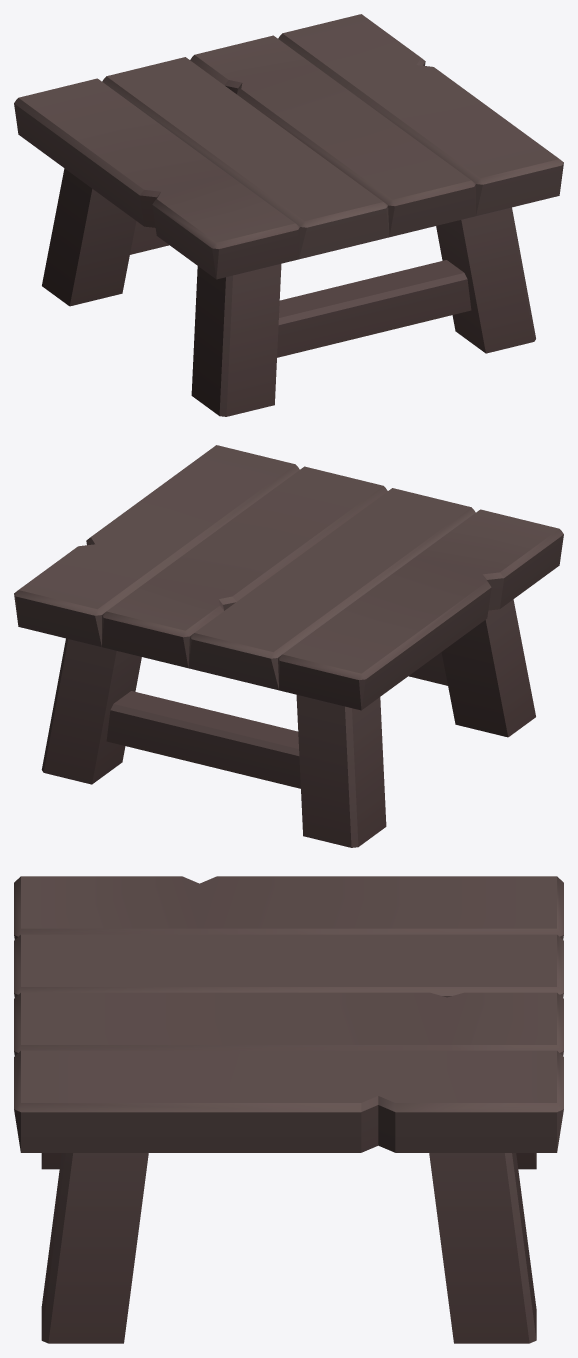
The model's file is table_medium.glb.
The picture shows the model from 3 angles, top to bottom: view 1: azimuth 30°, elevation 25°; view 2: azimuth 150°, elevation 25°; view 3: azimuth 270°, elevation 25°; orthographic projection. The views are drawn at different scales.
Visible parts, largest first — view 1: table_medium; view 2: table_medium; view 3: table_medium.
Part boxes in pixels (x1,y1,x2,y2): table_medium: [14, 14, 563, 416]; table_medium: [14, 445, 563, 847]; table_medium: [14, 876, 563, 1343].
Size of the model in its own units: 2 by 1 by 2.
1 material, 1 textured.
